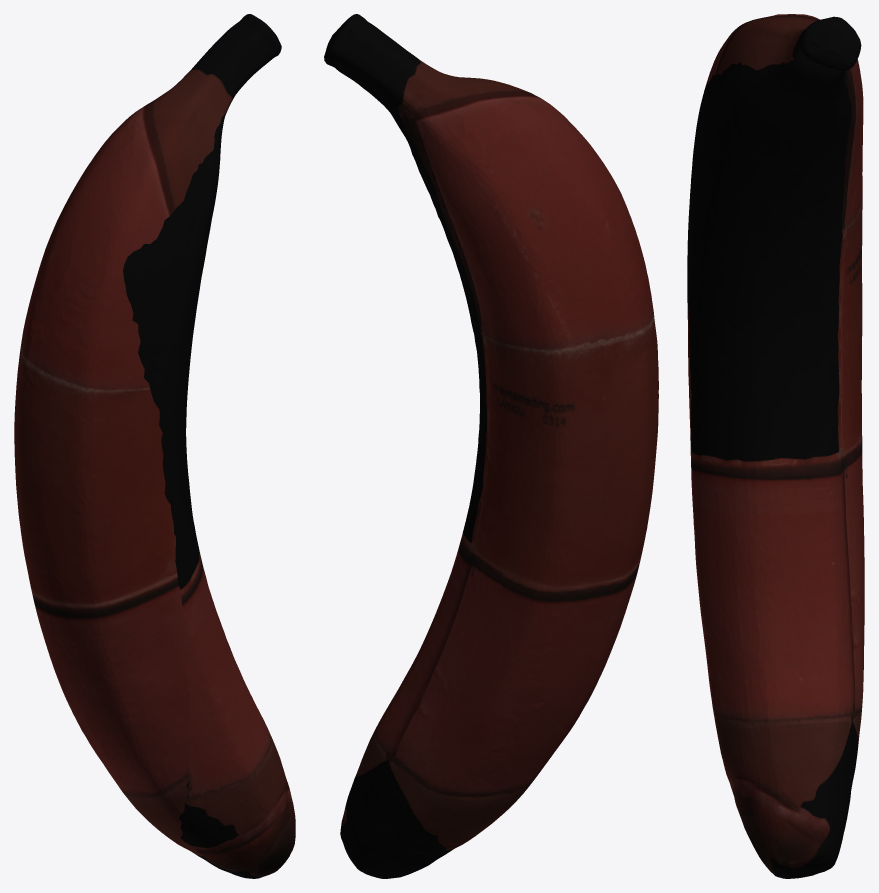
The picture shows the model from 3 angles, left to right: view 1: azimuth 30°, elevation 25°; view 2: azimuth 150°, elevation 25°; view 3: azimuth 270°, elevation 25°; orthographic projection. The views are drawn at different scales.
Bounding box in the file's own units: 0.069 × 0.1976 × 0.0366.
